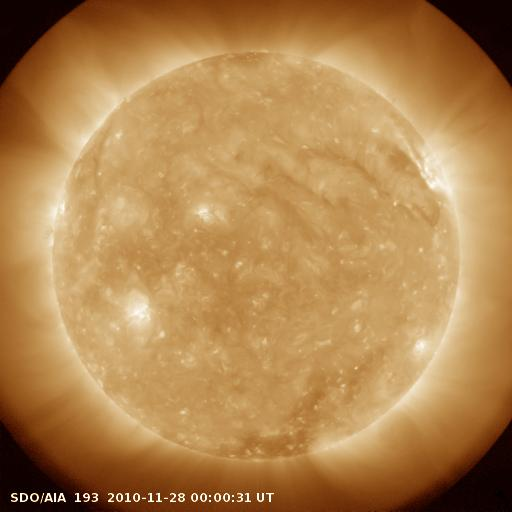coronal_hole: (214, 432, 336, 460)
